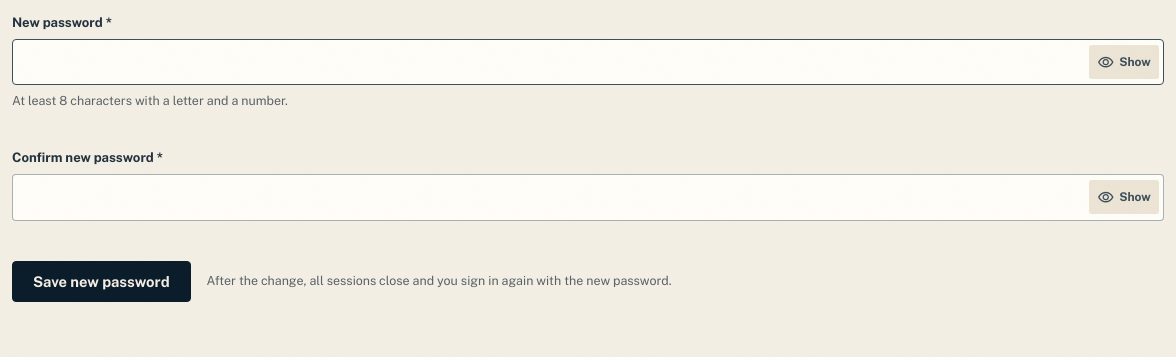
Test: PasswordResetForm › keeps mismatched passwords in the form
This screenshot has width=1176, height=357.
In the password field labelled "New password *": (588, 62) [12,39,1164,85], type "SecurePass9"
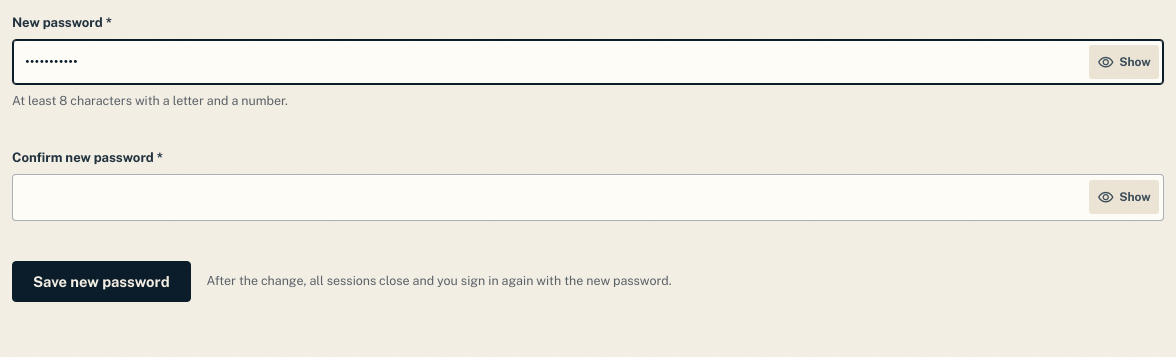
In the password field labelled "Confirm new password *": (588, 197) [12,174,1164,221], type "Different9"
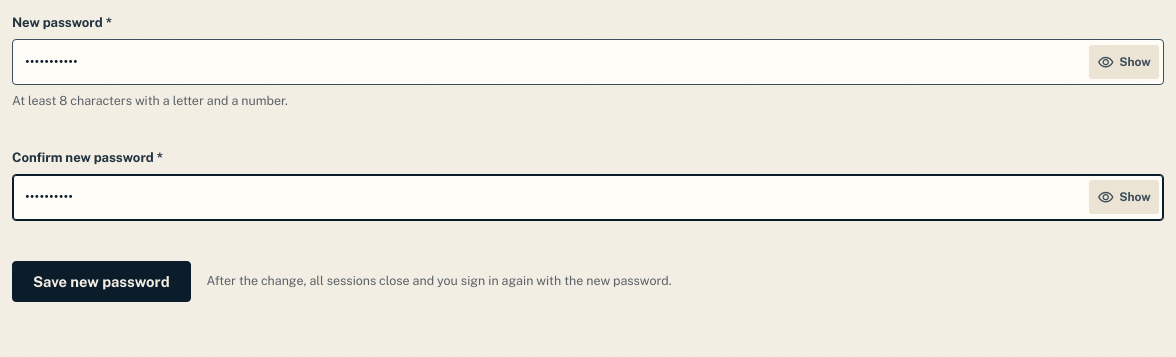
Click the button "Save new password": click(101, 281) [12,261,191,302]
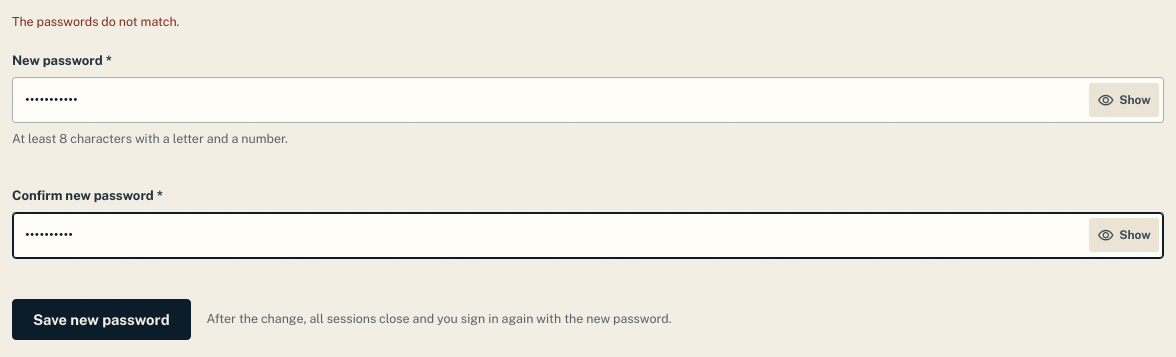
Now the message shows "do not match", box [12,14,179,29]
